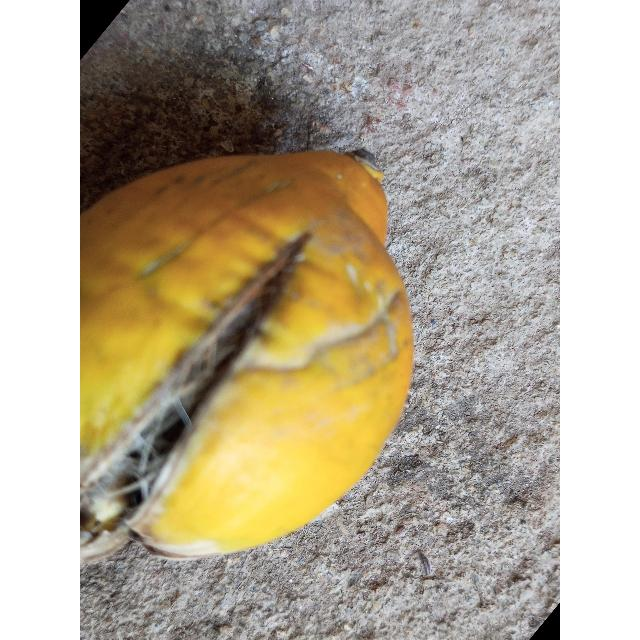damaged: (80, 150, 415, 570)
